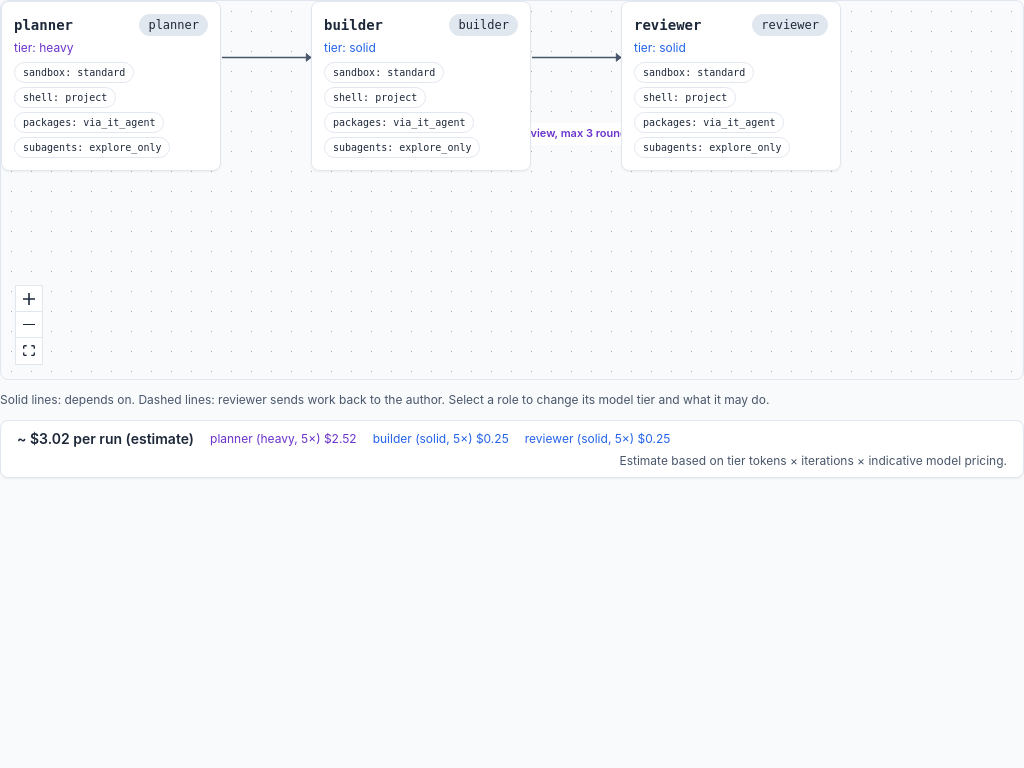
TeamGraph › updates the cost estimate when the model tier changes
This screenshot has width=1024, height=768.
Click the element with test id "team-node-builder".
click(421, 86)  # box [311,1,531,171]
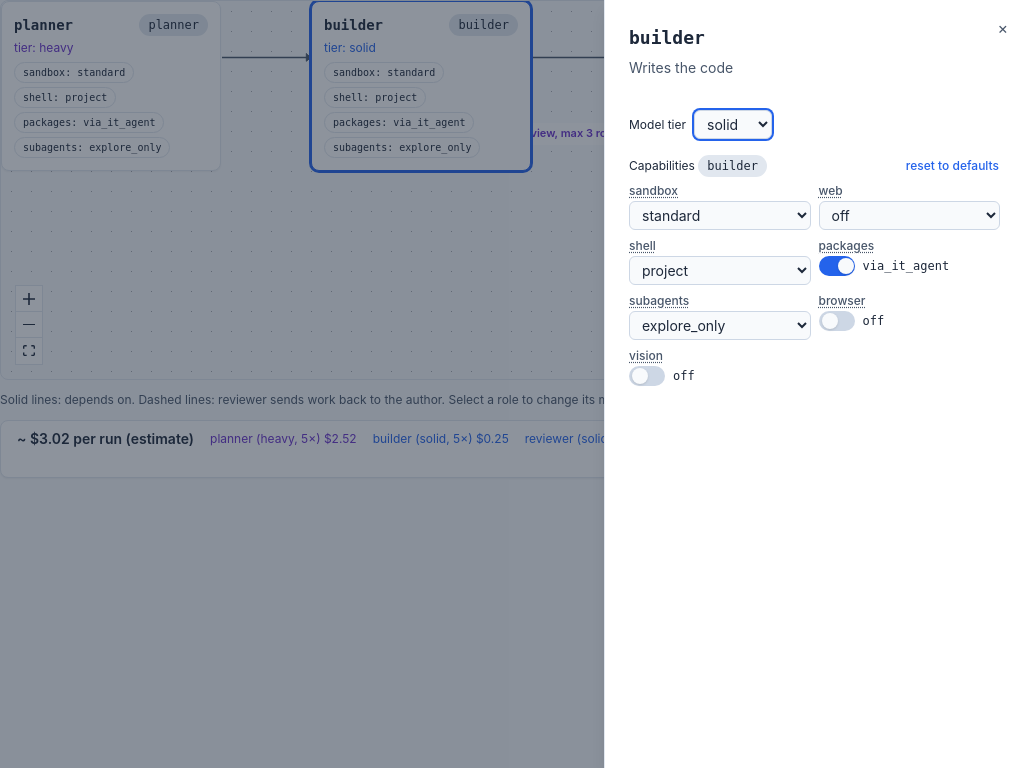
Select "heavy" in the dropdown named "builder model tier" at point(733, 124), box [694,110,772,139]
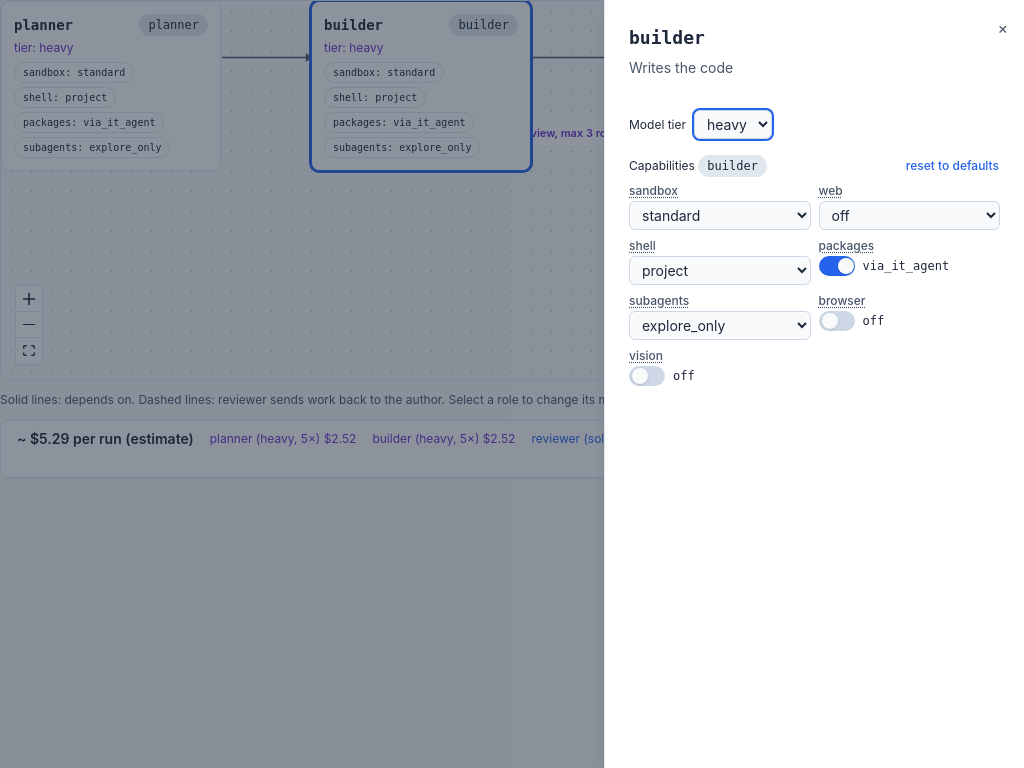
Expected: the element with test id "team-node-builder" shows "tier: heavy", [311,1,531,171]
